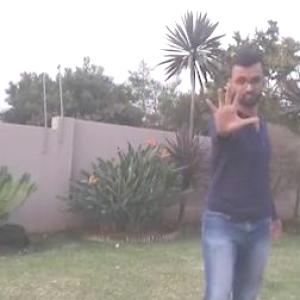follow_hand: (202, 74, 264, 138)
